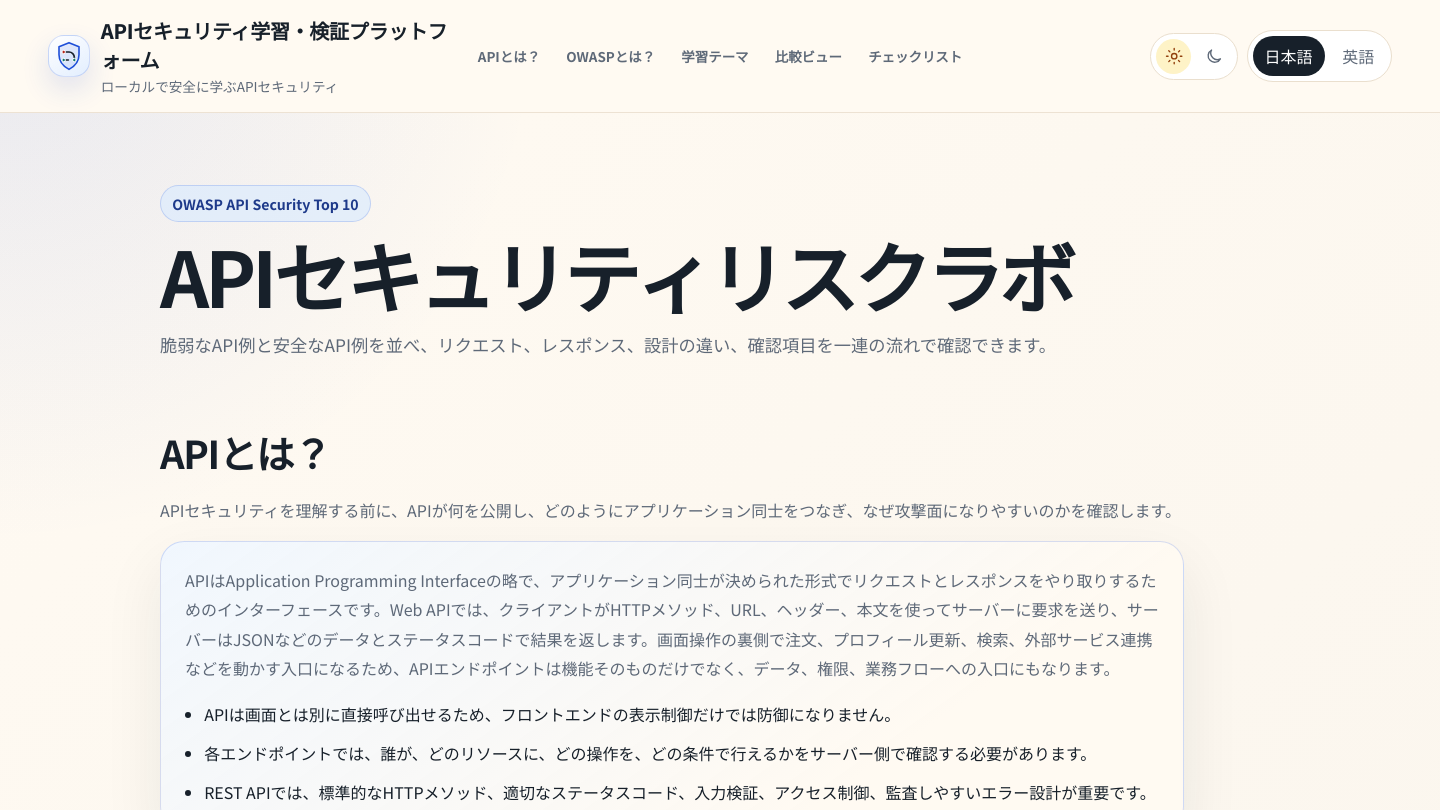
Test: HomePage local API demos › clears the running state and shows the English error after invalid JSON
Click the button "英語" at (1358, 56), box [1330,36,1386,76]
(page scrolled)
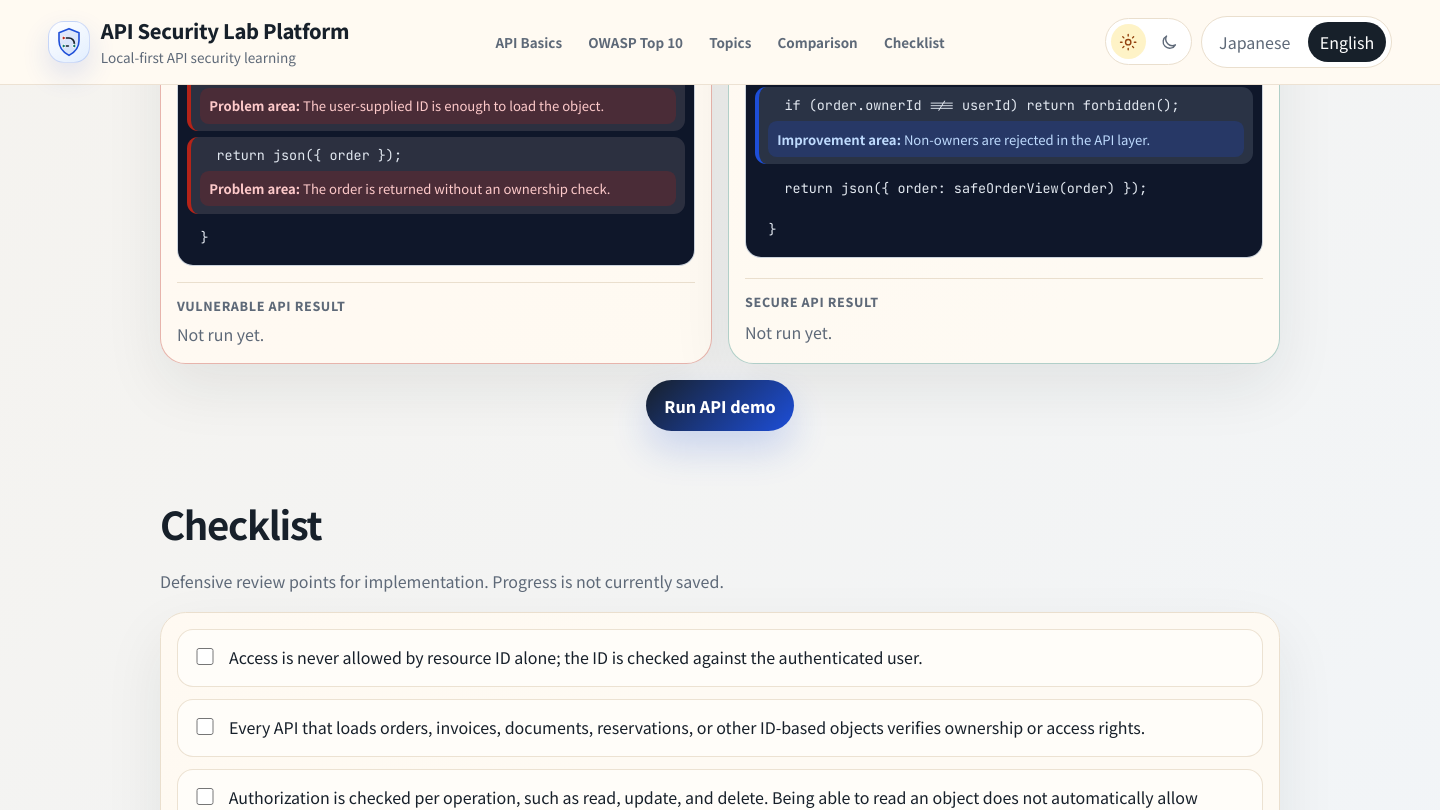
Click the button "Run API demo" at (720, 406), box [646,380,794,431]
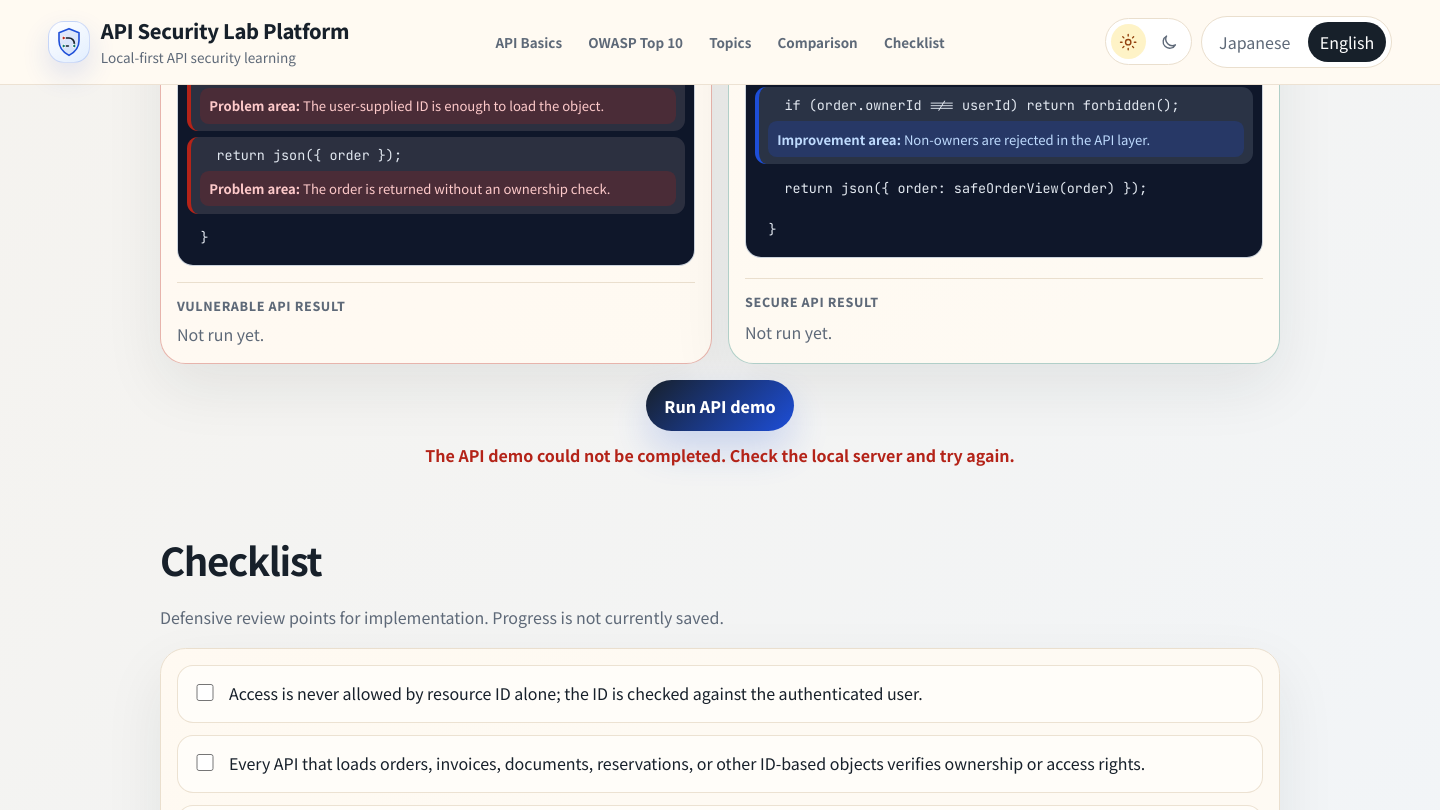
Check: the message reads "The API demo could not be completed. Check the local server and try again.", box [425,443,1015,467]
